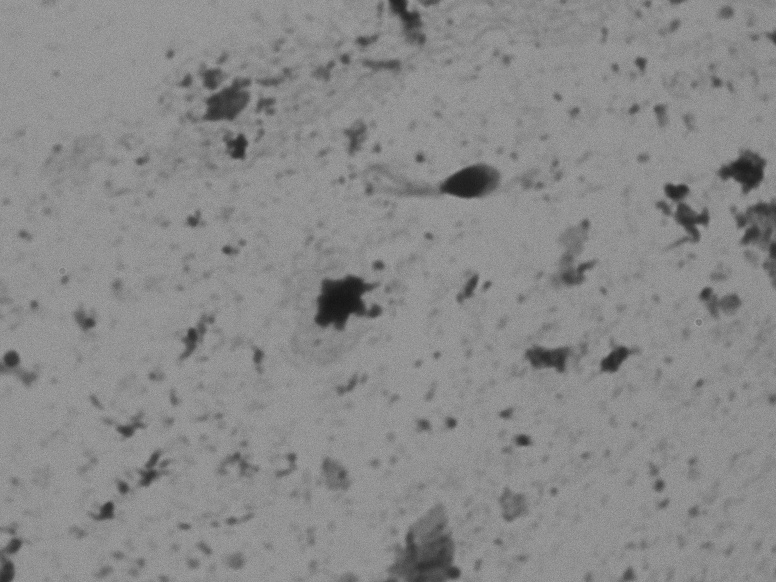Abnormal: (333, 130, 509, 231)
